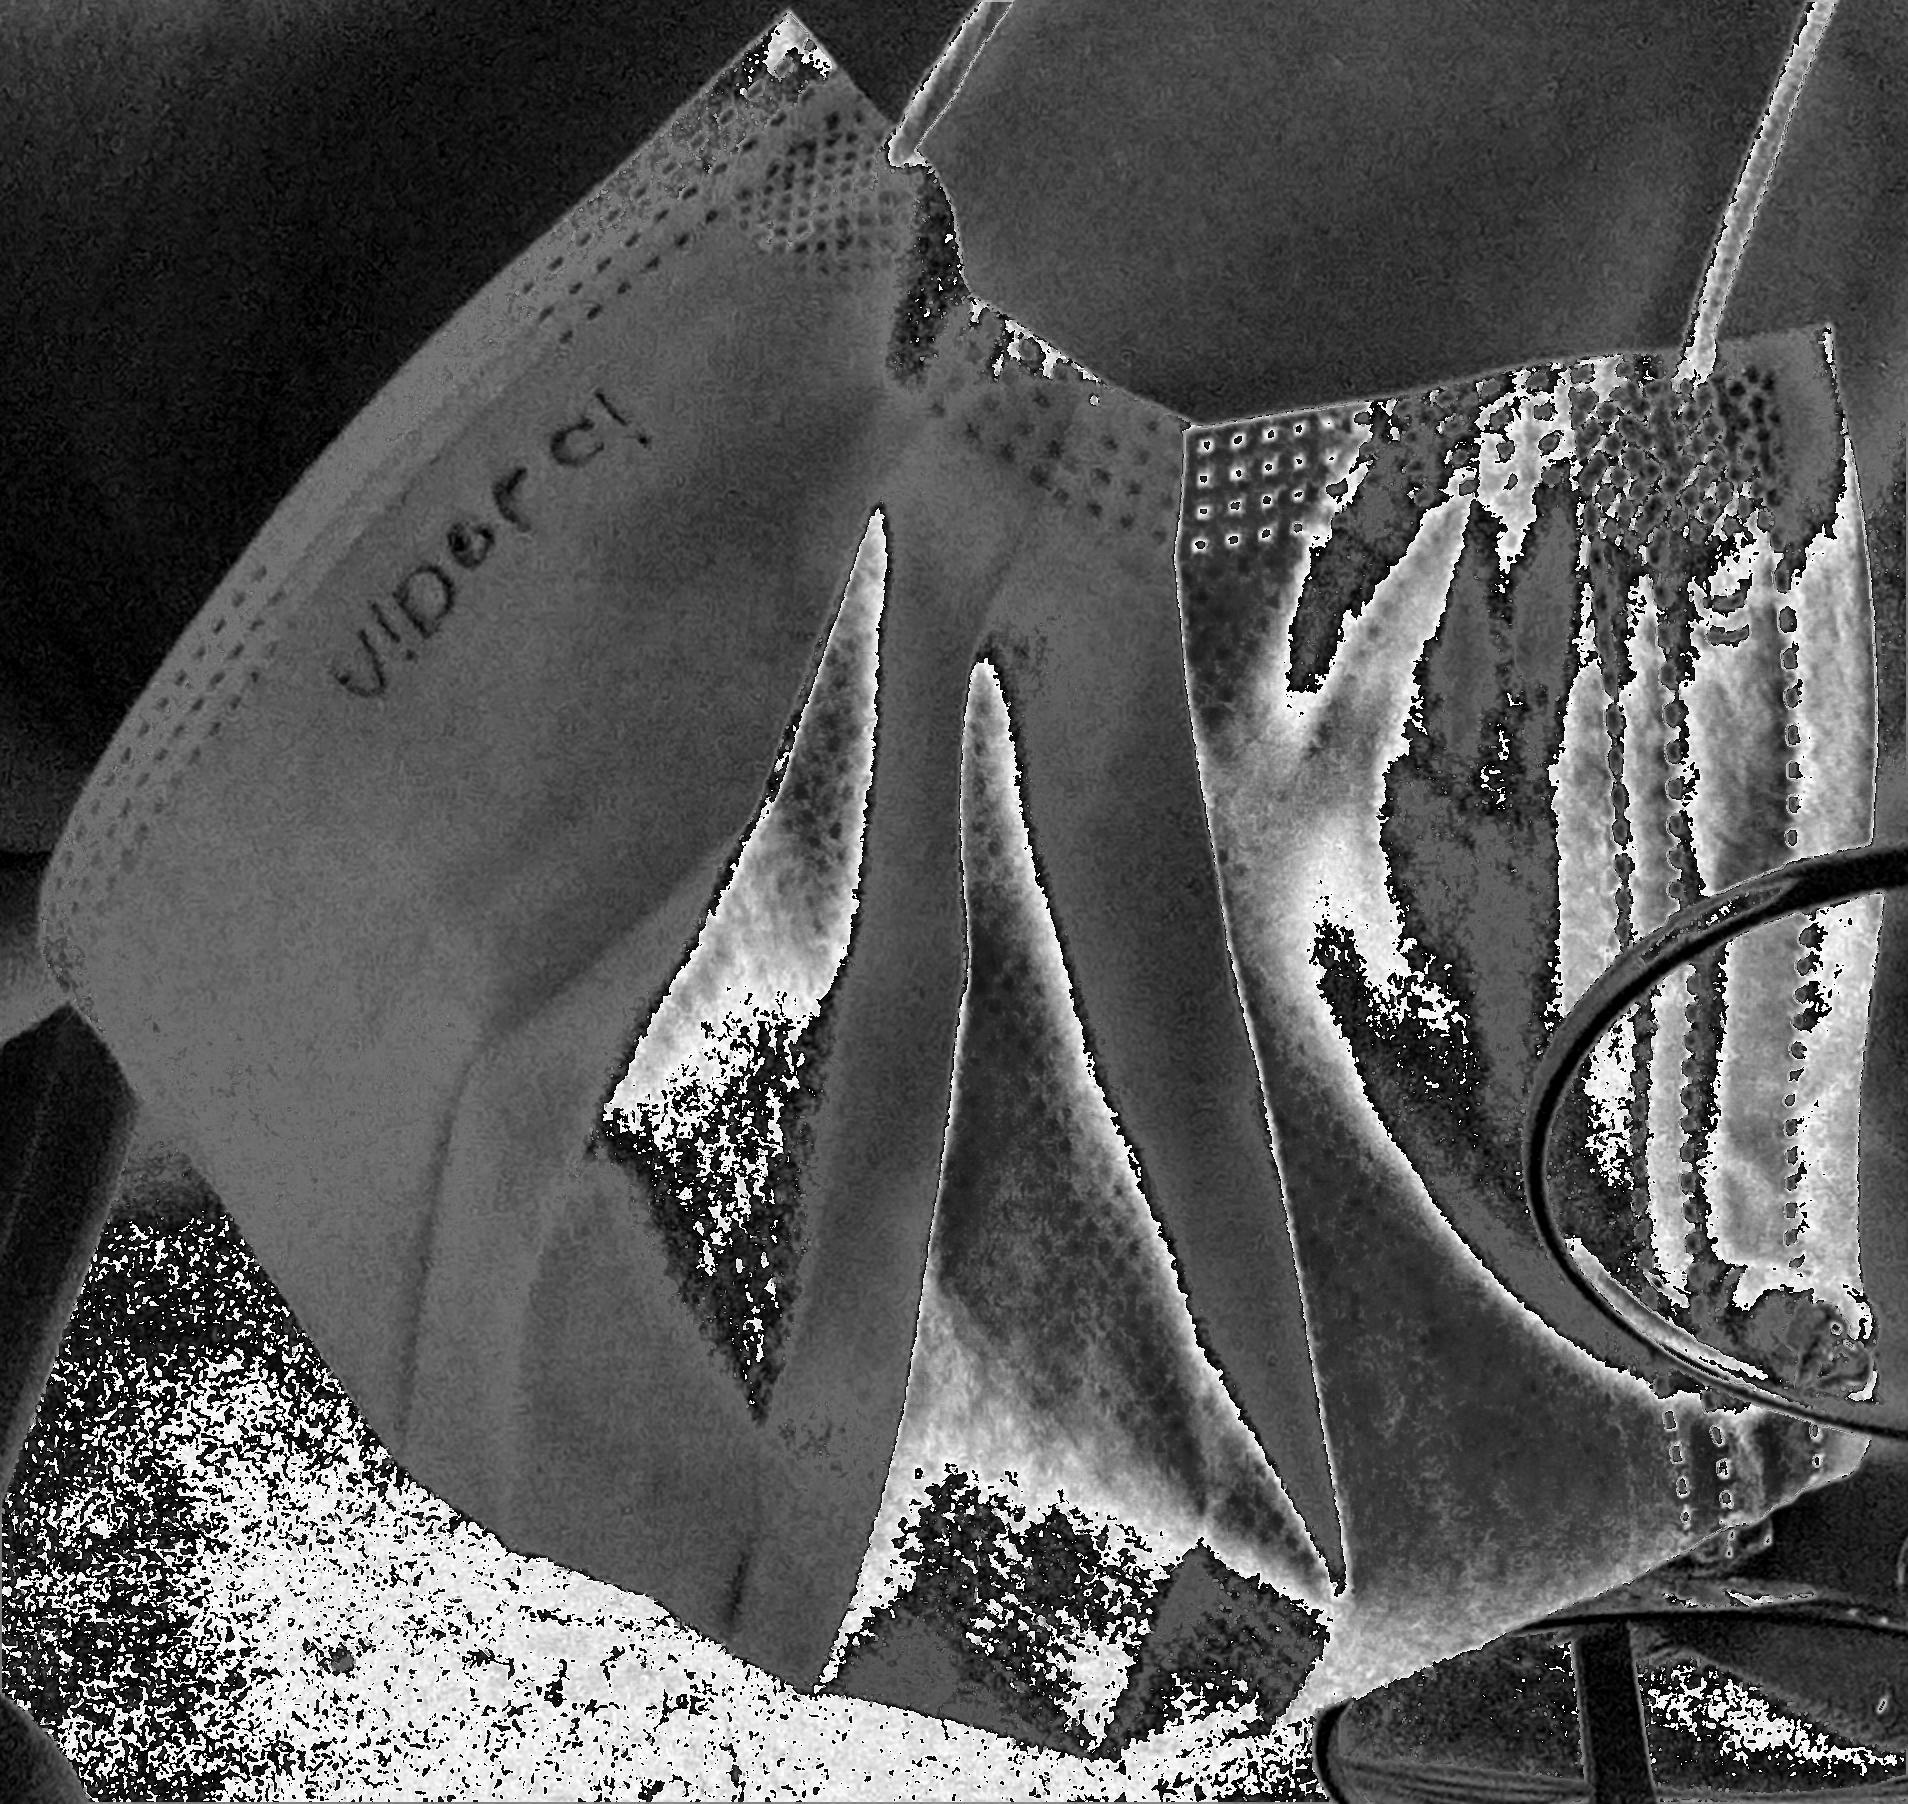Low GSM: (633, 543, 1572, 1460)
